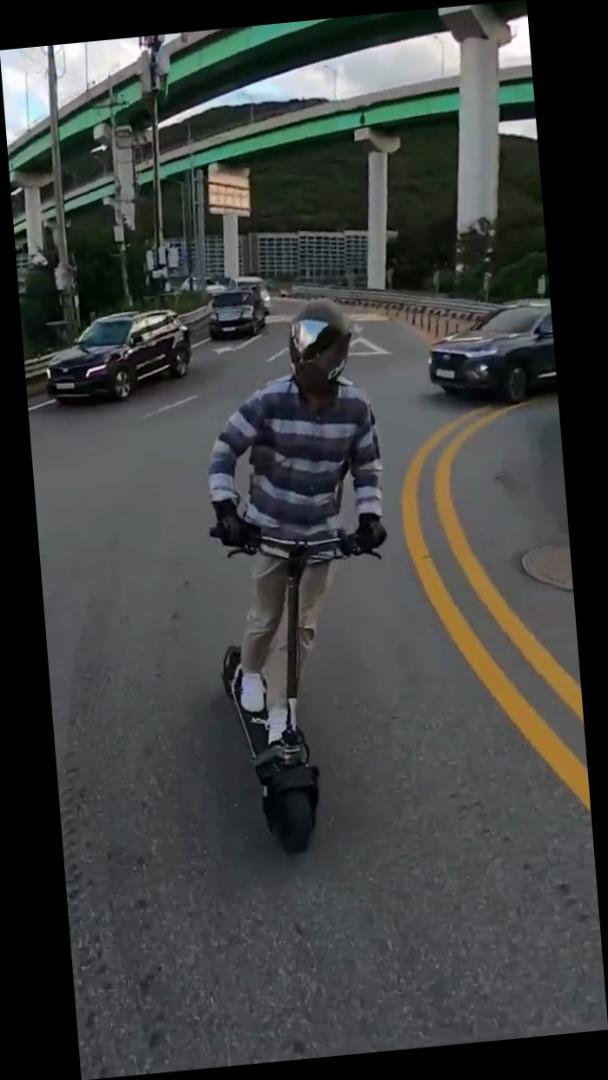helmet: (188, 291, 417, 857)
